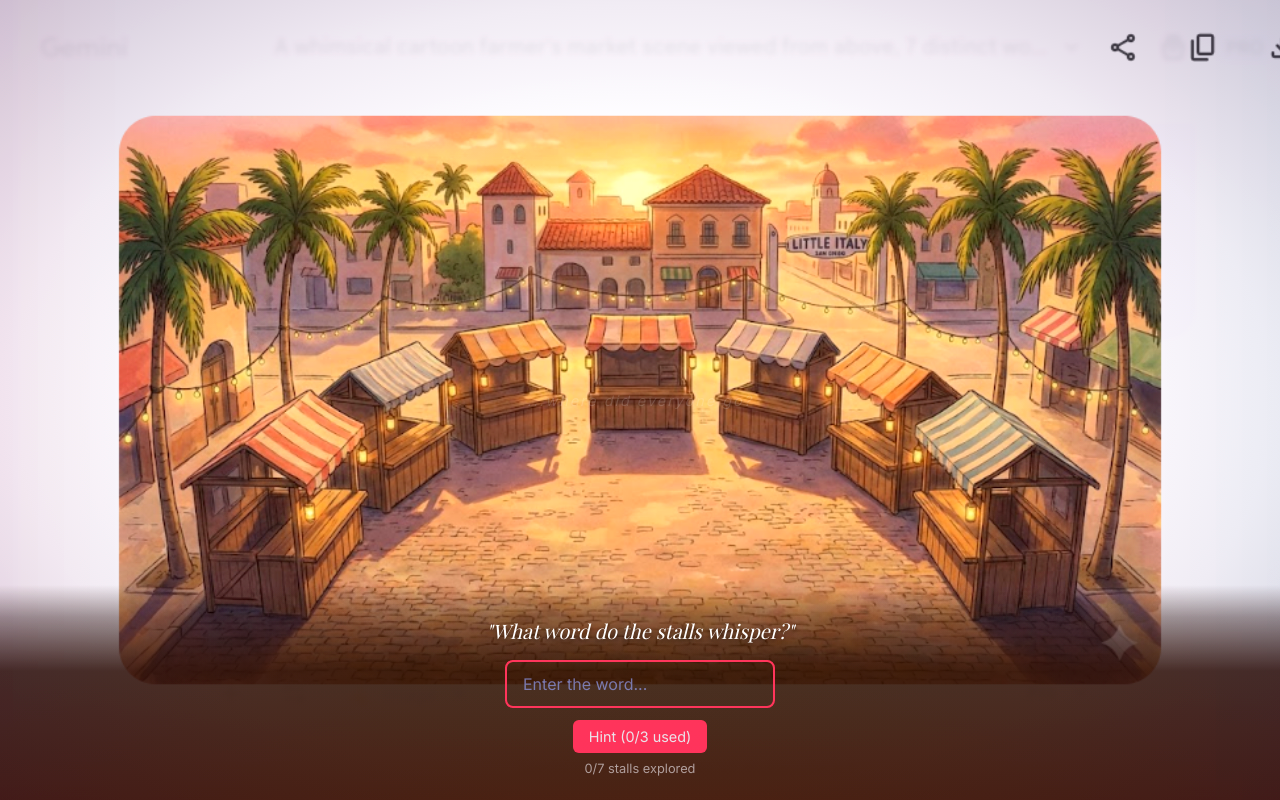
Test: C.2: Room1Market component › shows wrong answer feedback (SC-04)
Type "WRONG" into the field with placeholder "Enter the word...". click: (640, 684)
box: [505,660,775,708]
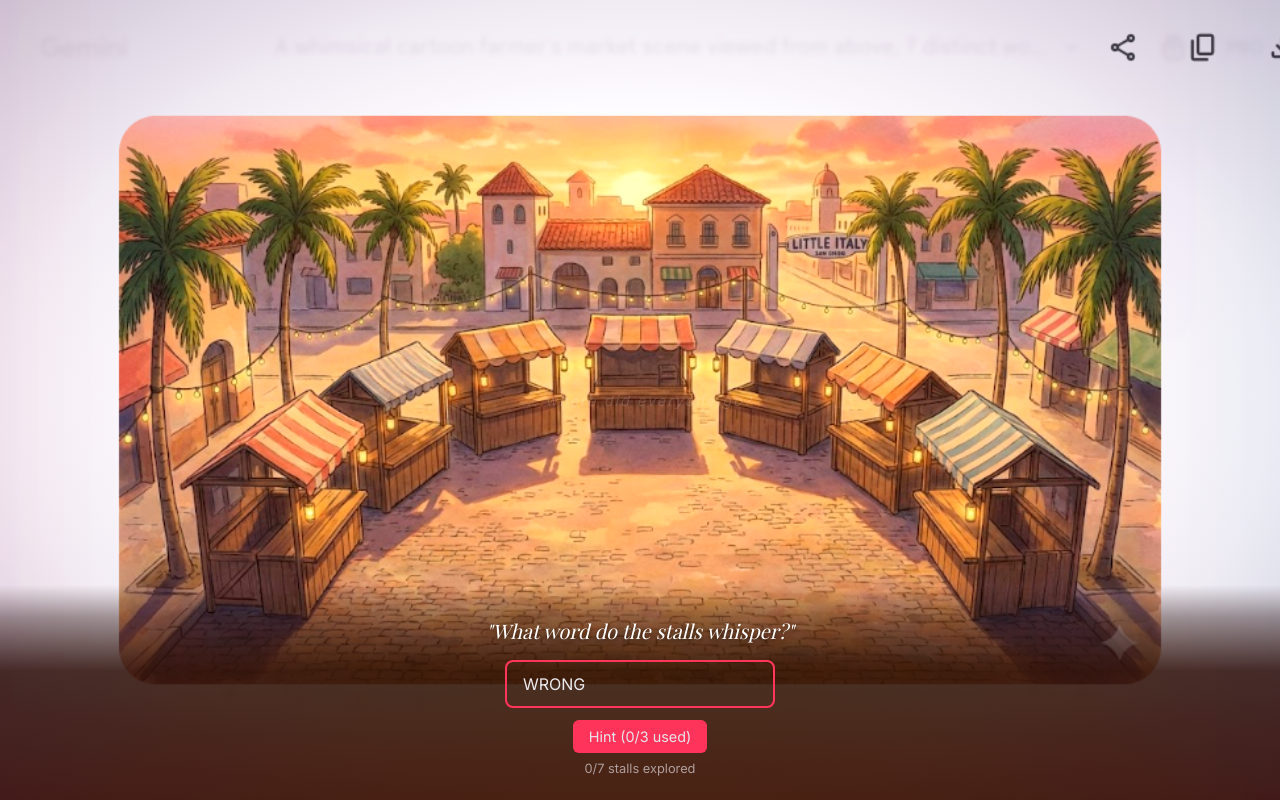
Press Enter in the field with placeholder "Enter the word...", box [505,660,775,708]
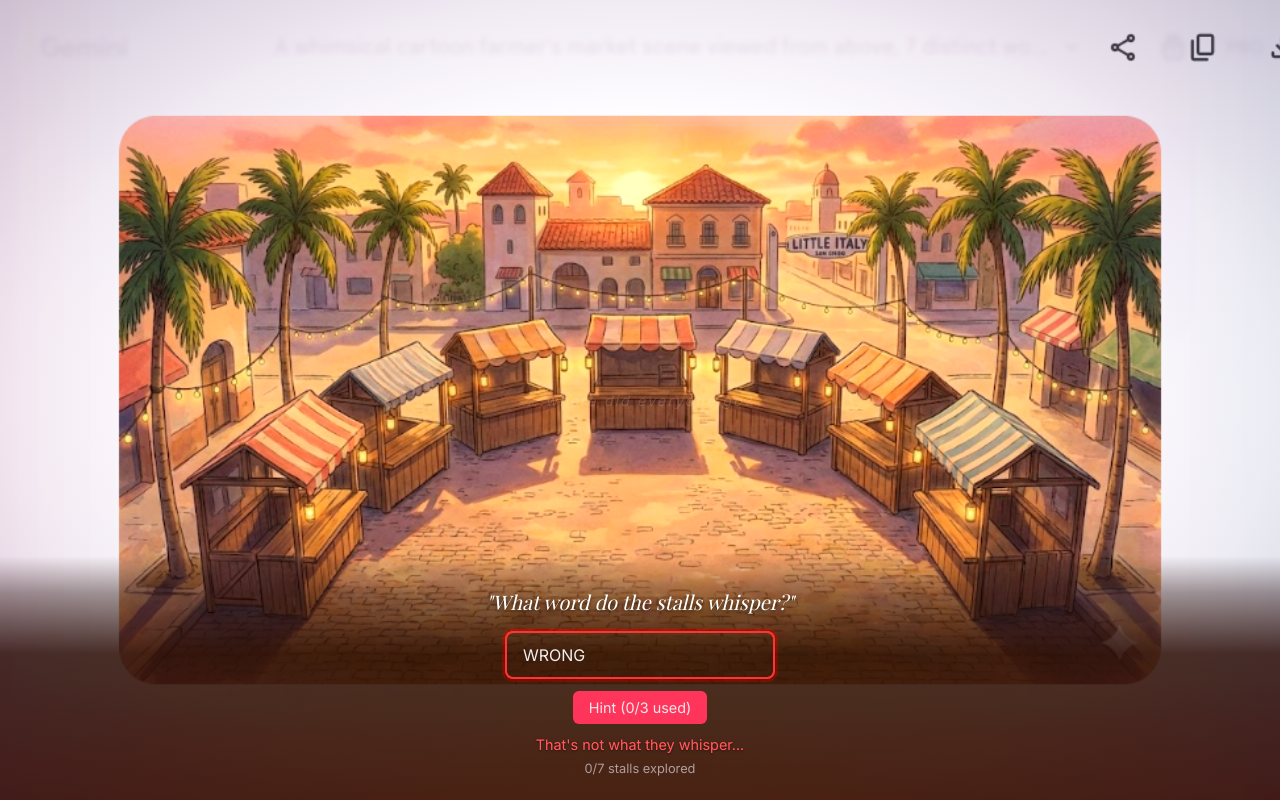
Expected: the text "That's not what they whisper..." is shown, [536,736,744,753]
